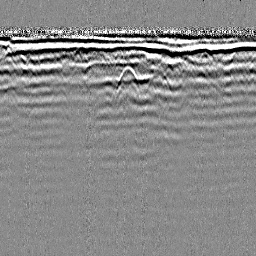cavity: (116, 65, 140, 89)
